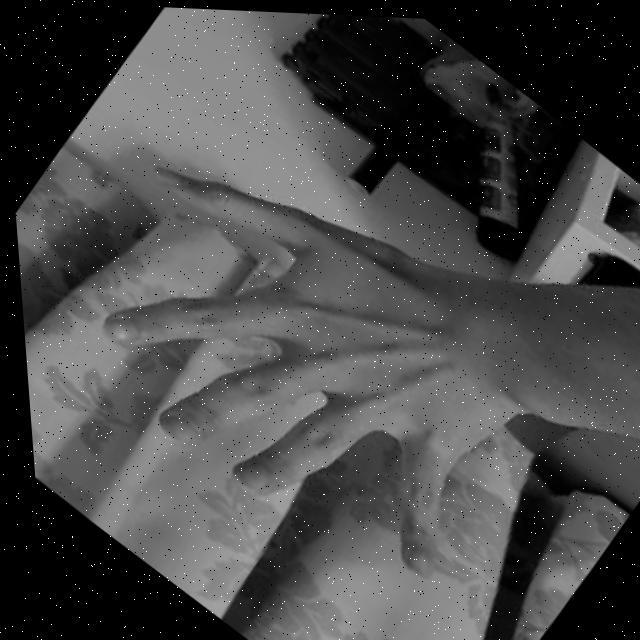no-gloves: (4, 59, 614, 640)
